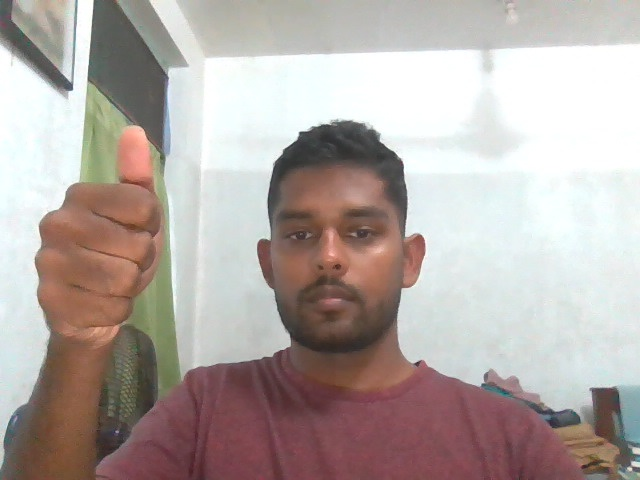good.: (21, 118, 169, 350)
